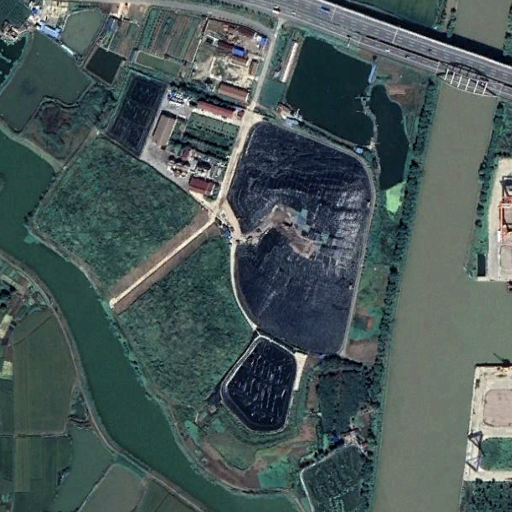lf: (217, 121, 374, 358)
